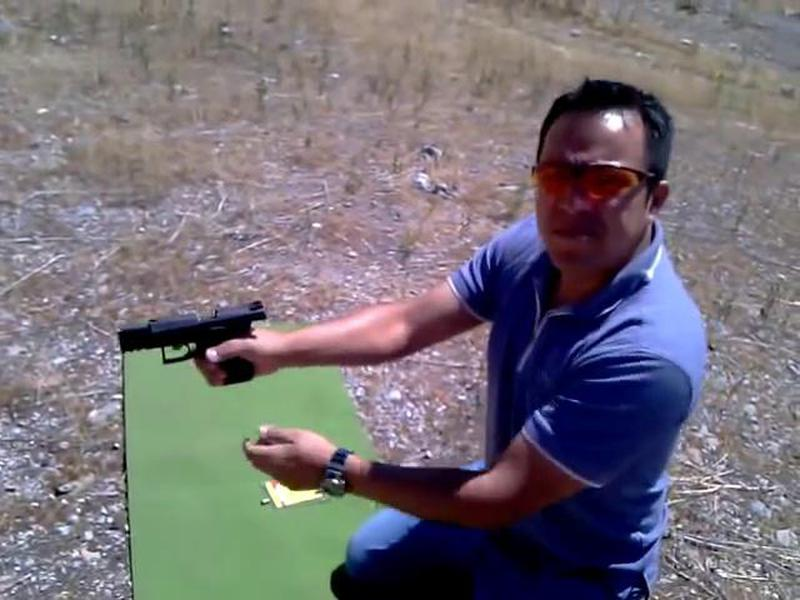Pistola: (115, 297, 274, 400)
